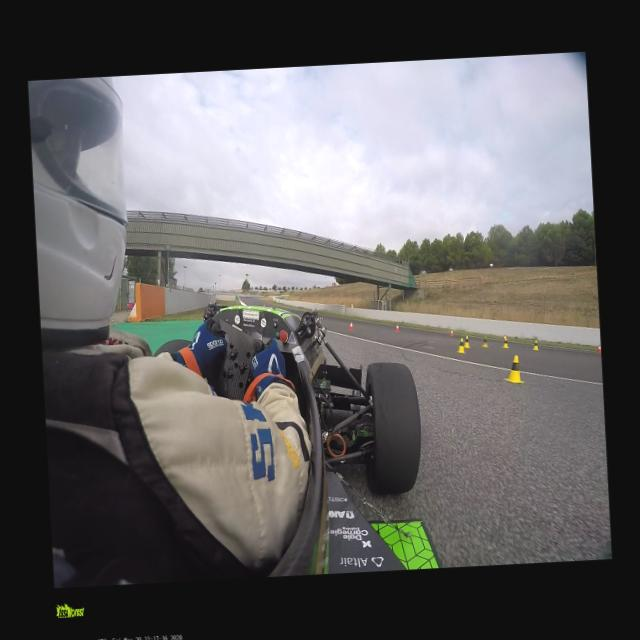orange_cone: (348, 321, 354, 332), (596, 344, 601, 354), (394, 324, 400, 332), (449, 328, 454, 336), (502, 334, 507, 342)
yellow_cone: (504, 355, 524, 384), (456, 338, 465, 354), (501, 338, 510, 350), (463, 335, 470, 349), (530, 340, 538, 352), (481, 336, 488, 348)
